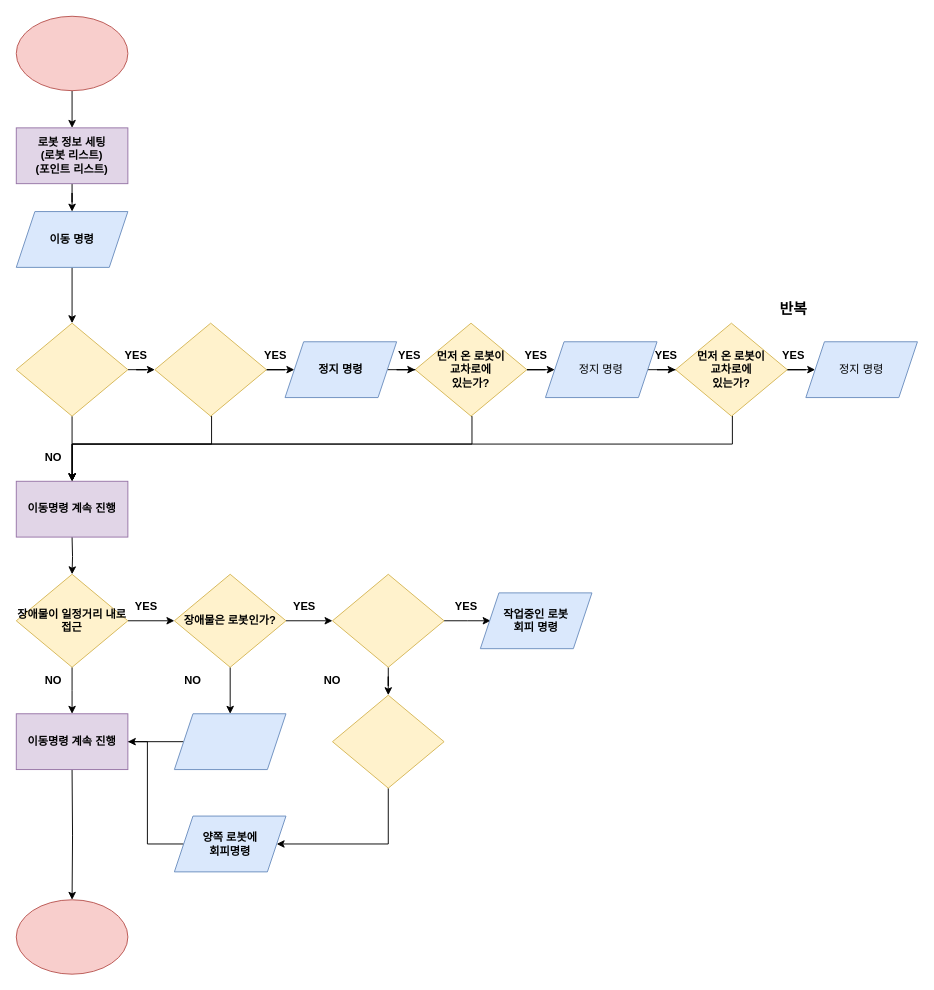
The diagram is 934 pixels wide and 990 high, and some of its shapes have lost their labels. Each missing label, with the centre of its shape:
교차로: (71,369)
다른 로봇이 교차로에 이미 있는가?: (210,369)
로봇 전원 ON: (71,53)
목적지 도착: (71,936)
접근한 로봇과 충돌위험이 있는가? (마주보고 있는가?): (388,741)
접근한 로봇은 현재 작업중인가?: (388,620)
회피명령: (229,741)
